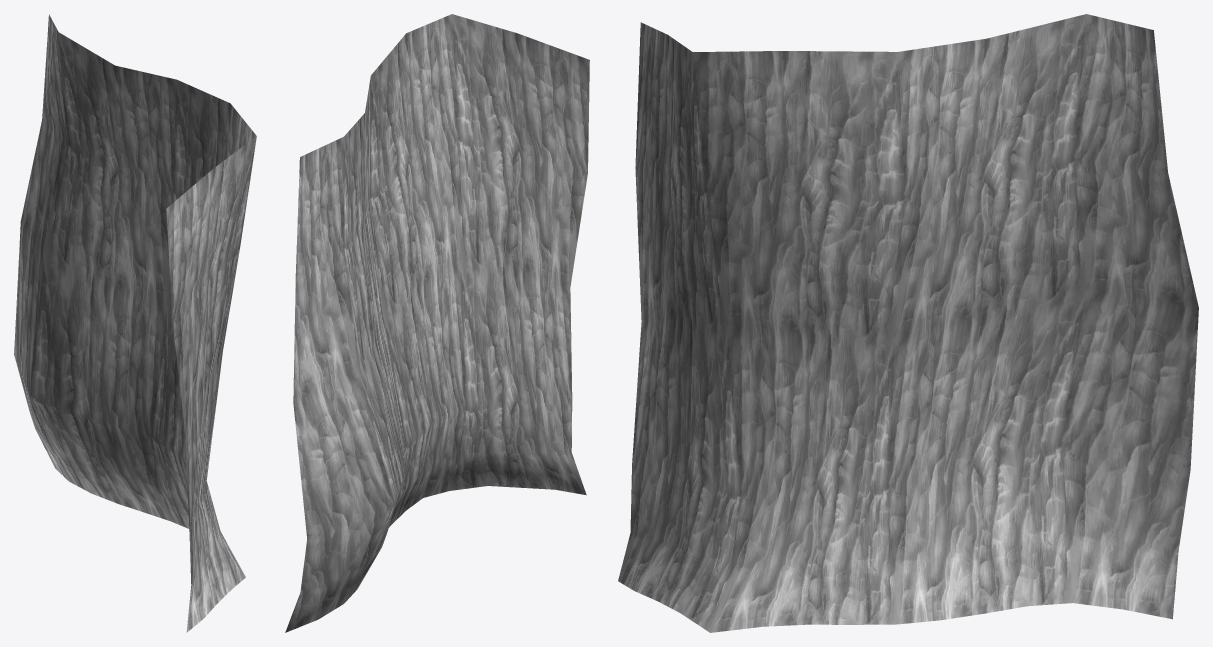
The model's file is SWORDLIGHT20_PS-AREA03_30.fbx.
3 renders of one model, left to right at view 1: azimuth 30°, elevation 25°; view 2: azimuth 150°, elevation 25°; view 3: azimuth 270°, elevation 25°, orthographic. The views are drawn at different scales.
Parts seen in each view (by area): view 1: SWORDLIGHT20_PS-AREA03_30; view 2: SWORDLIGHT20_PS-AREA03_30; view 3: SWORDLIGHT20_PS-AREA03_30.
Part boxes in pixels (<box>): SWORDLIGHT20_PS-AREA03_30: <box>14,14,256,632</box>; SWORDLIGHT20_PS-AREA03_30: <box>285,14,589,632</box>; SWORDLIGHT20_PS-AREA03_30: <box>618,14,1198,632</box>.
Size of the model in its own units: 54750 by 201299 by 176721.
1 material, 1 textured.
